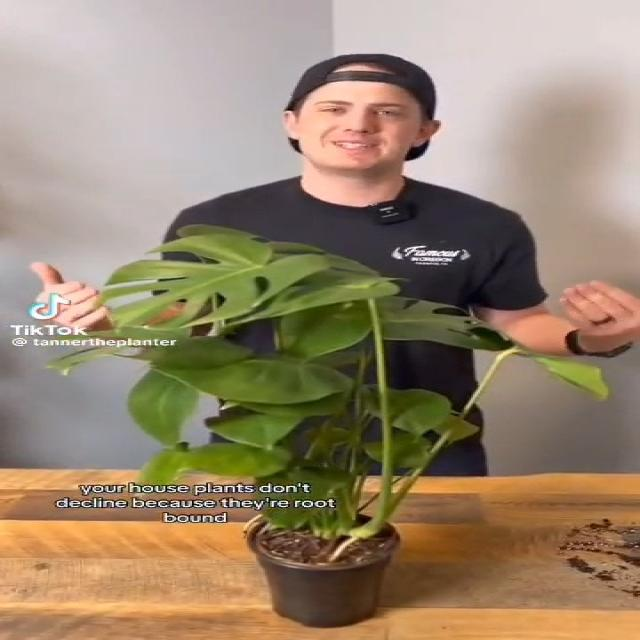roslina_zdrowa: (47, 222, 609, 539)
